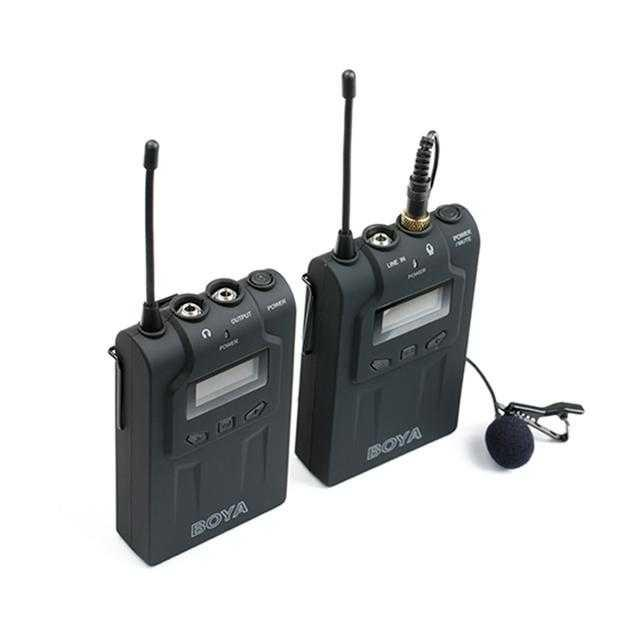microphone: (485, 414, 534, 468)
